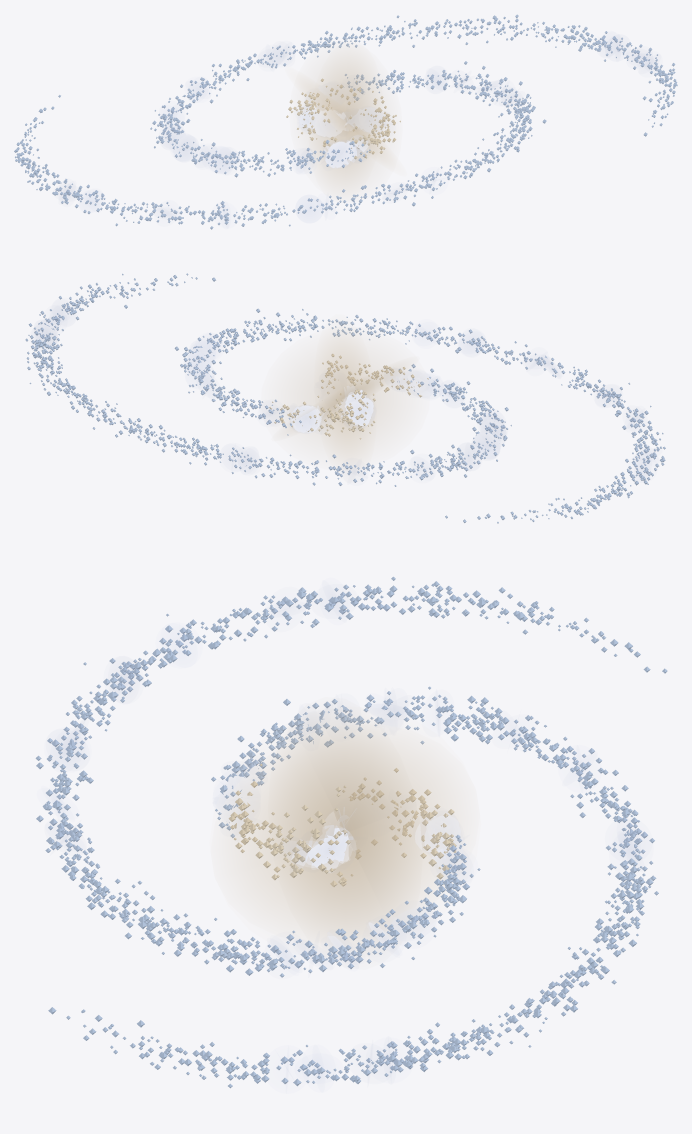
3 views of the same model, one above another, from view 1: azimuth 30°, elevation 25°; view 2: azimuth 150°, elevation 25°; view 3: azimuth 270°, elevation 25° (orthographic). The views are drawn at different scales.
Size of the model in its own units: 7.21 by 1.78 by 3.98.
